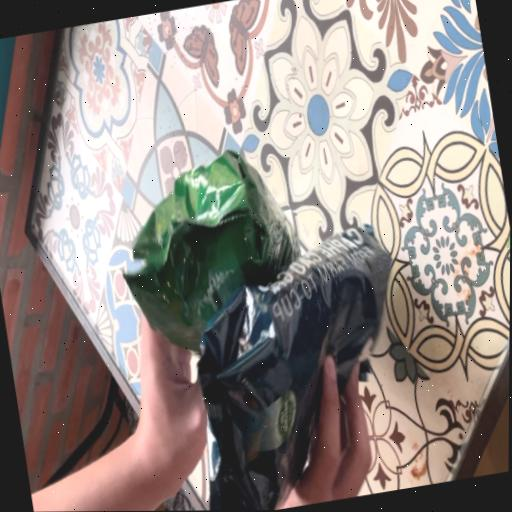cafe_hat: (197, 228, 390, 510)
cafe_xay: (123, 149, 299, 352)
